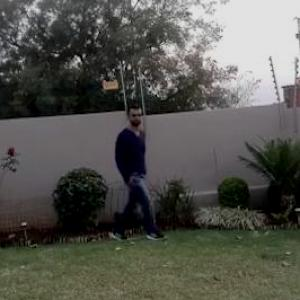follow: (103, 100, 156, 247)
